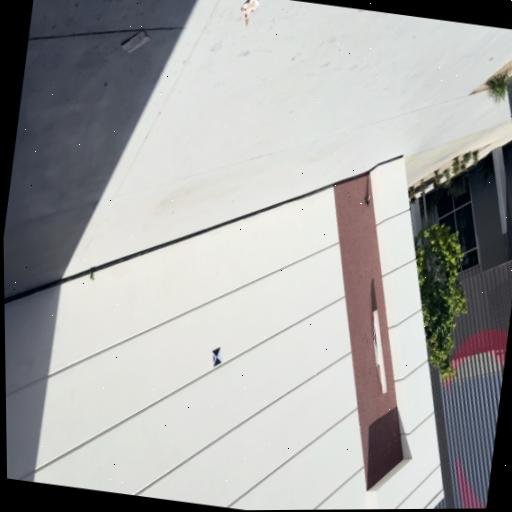target4: (212, 347, 222, 367)
